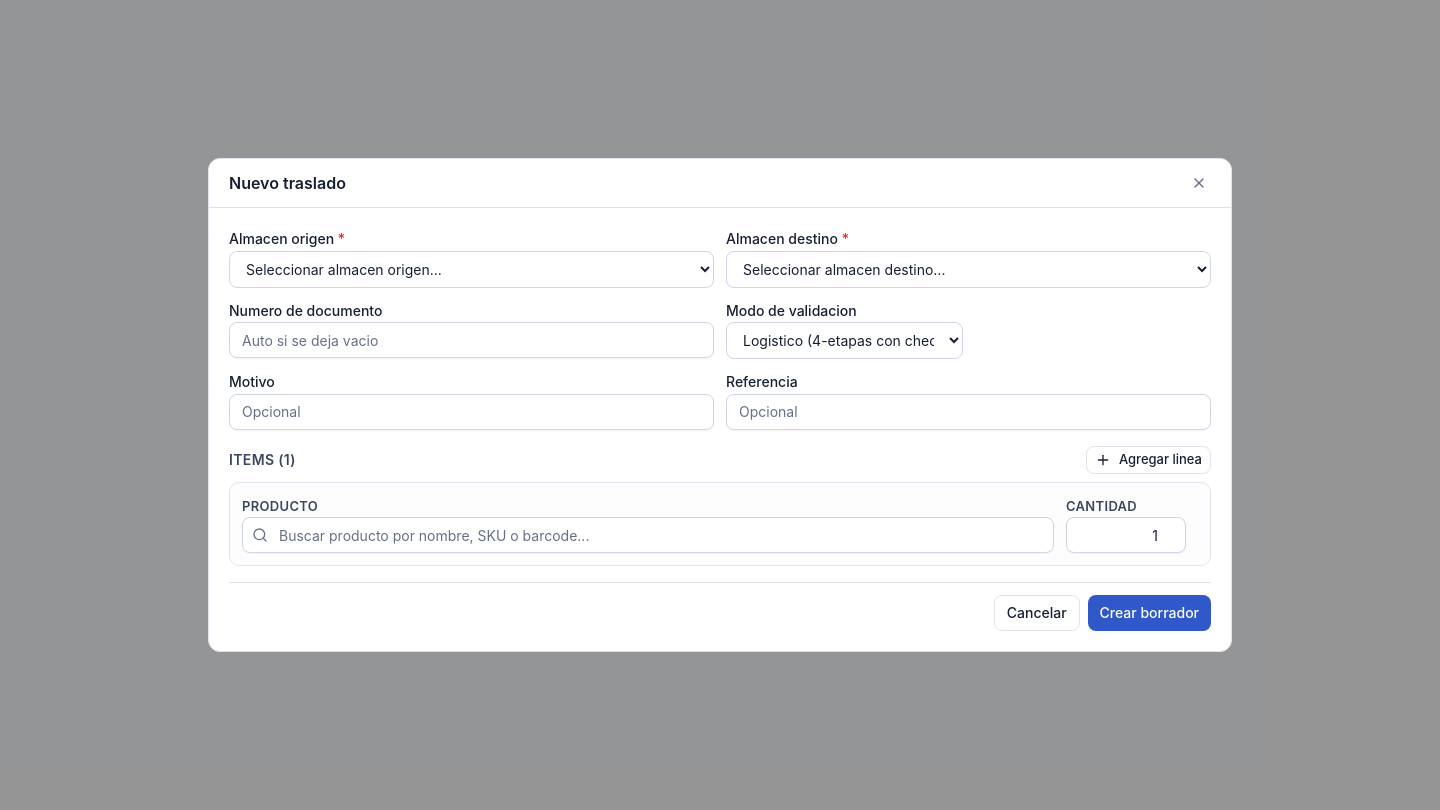
Test: TransferCreateDialog › bloquea submit cuando from_warehouse_id === to_warehouse_id
This screenshot has width=1440, height=810.
Select "WH-1 — Almacen 1" in the dropdown labelled "Almacen origen *" at (472, 269), box [229,251,714,288]
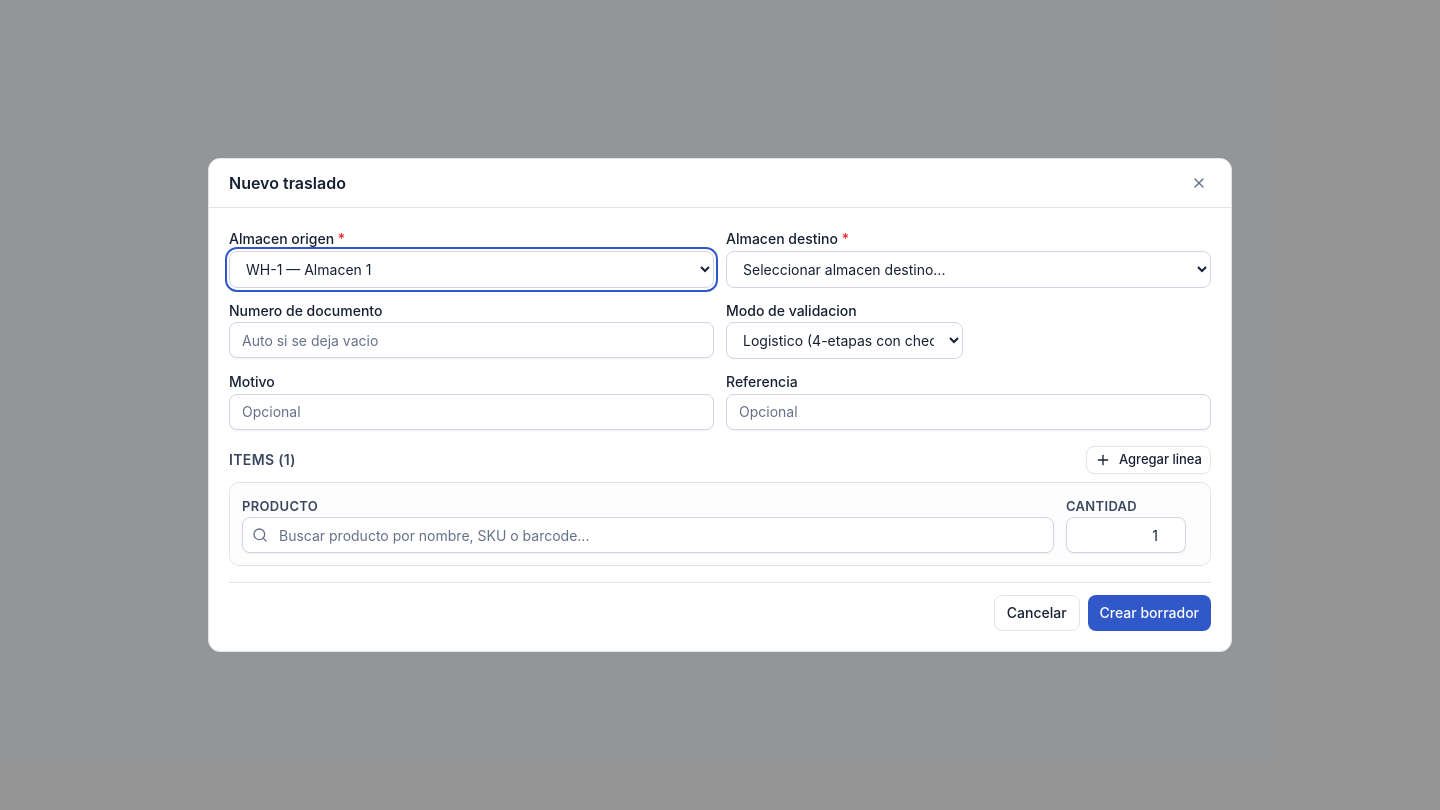
Select "WH-1 — Almacen 1" in the dropdown labelled "Almacen destino *" at (968, 269), box [726,251,1211,288]
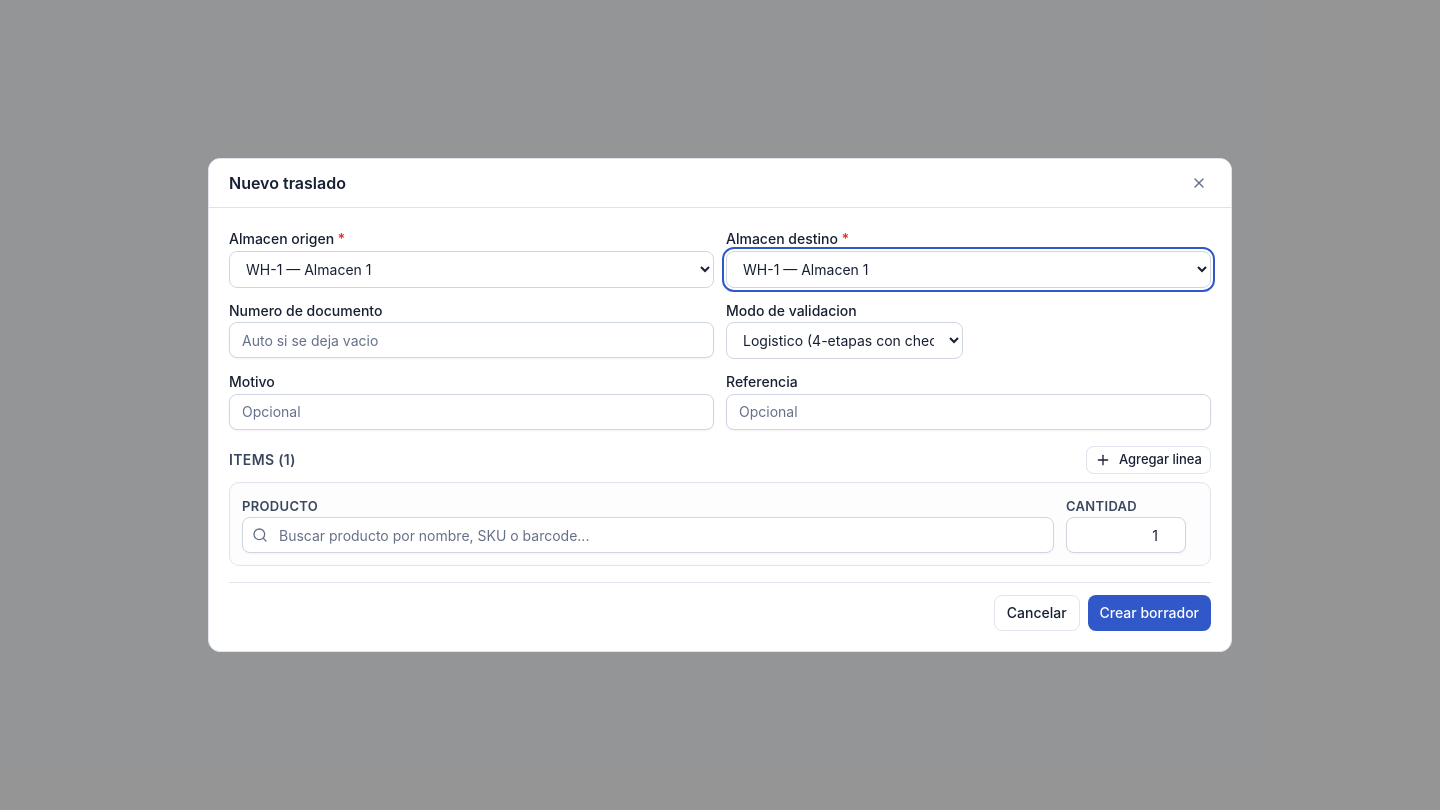
Type "PRODUCTO A" into the field named "Buscar producto de la linea 1" at (648, 535), box [242,517,1054,553]
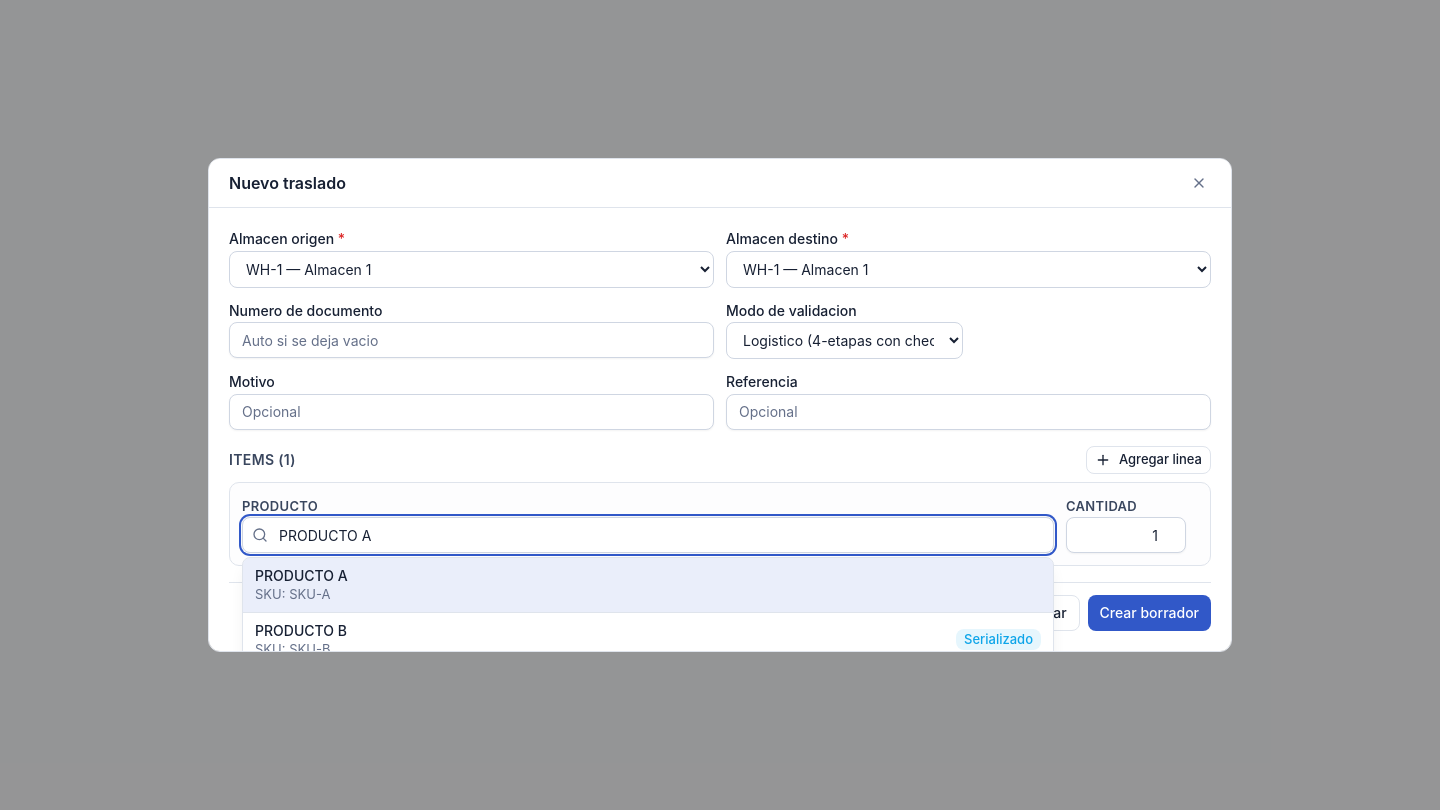
Click the option "PRODUCTO A SKU: SKU-A" at (301, 576), box [243,558,1053,613]
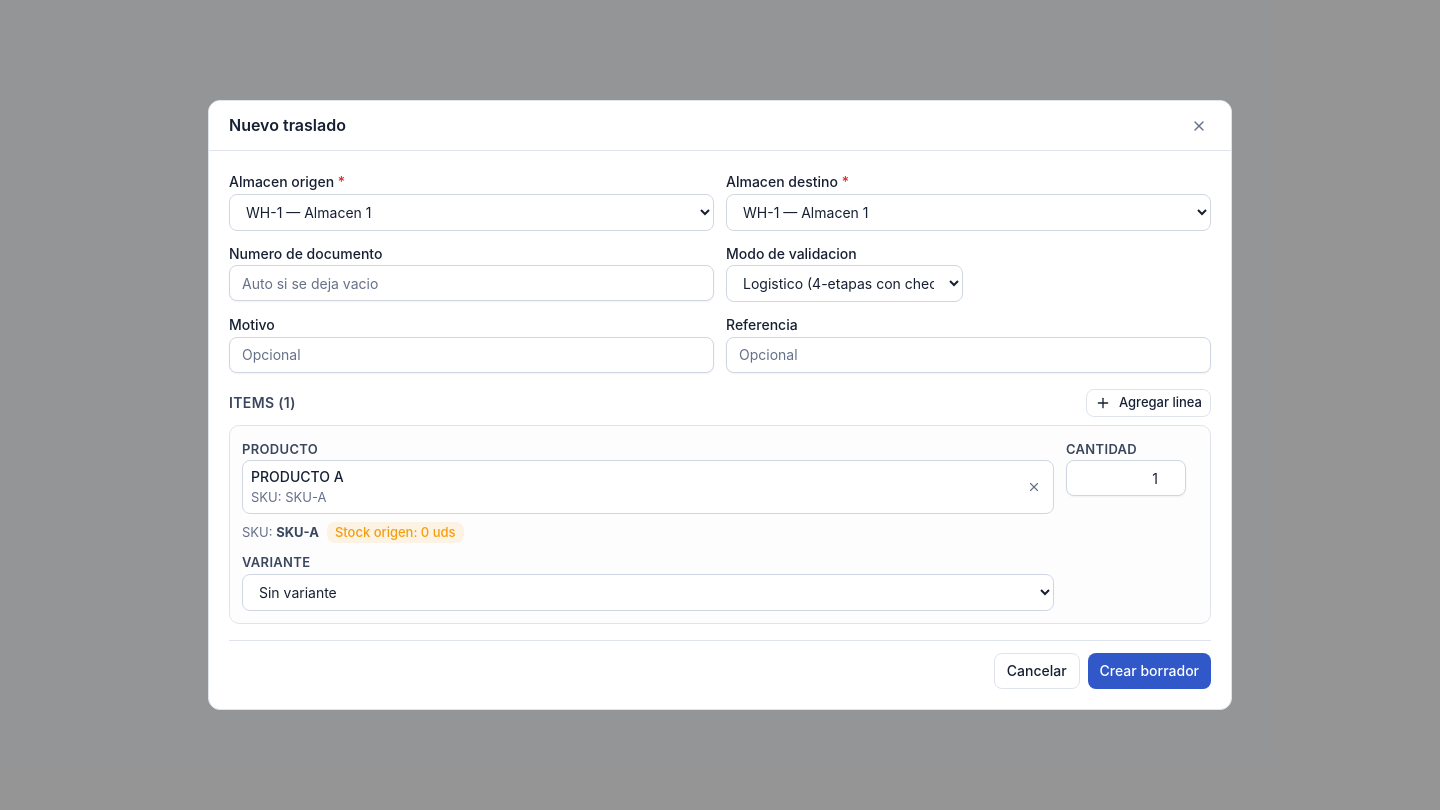
Click the button "Crear borrador" at (1149, 670), box [1088,652,1211,688]
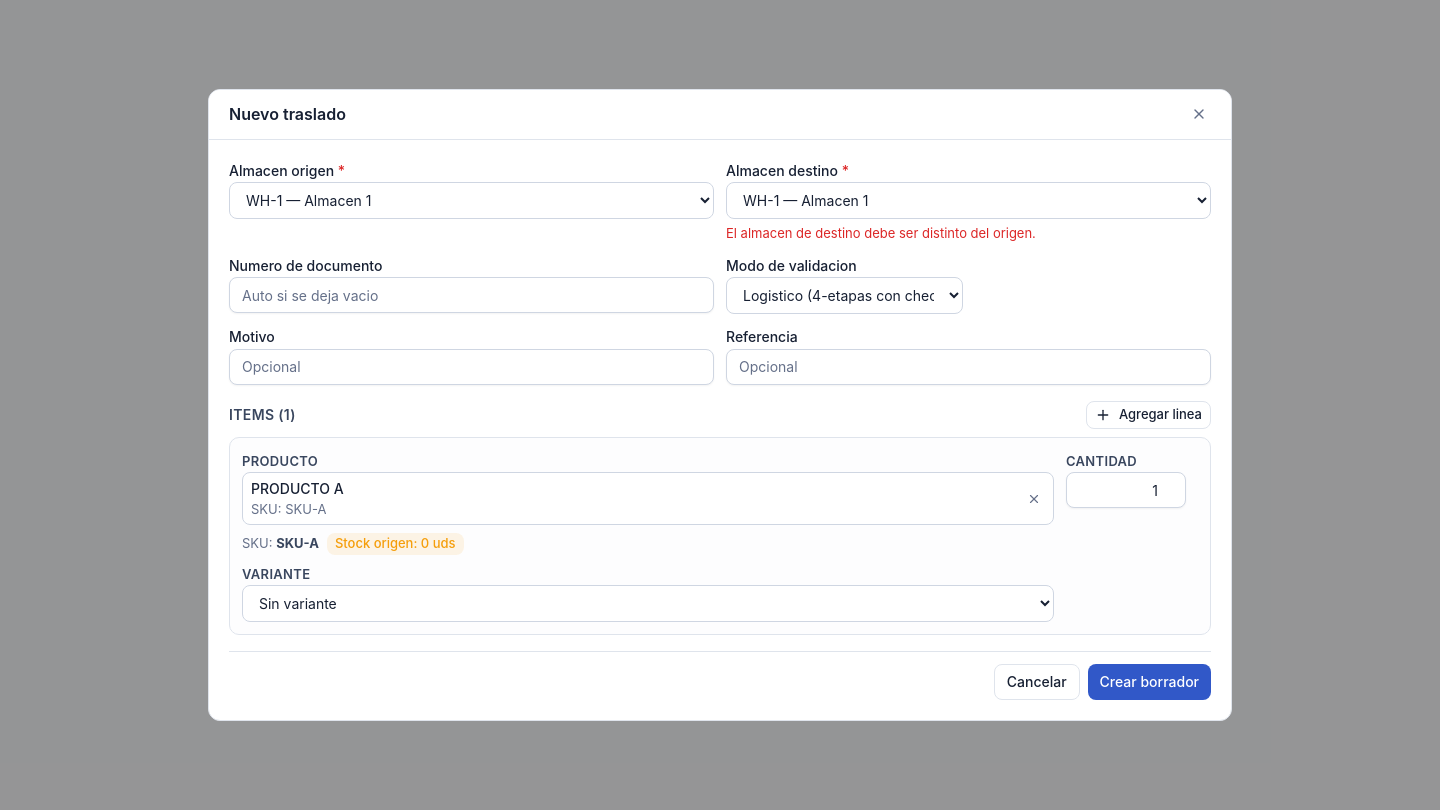
Expected: the text "El almacen de destino debe ser distinto del origen." is shown, [726,225,1036,241]
